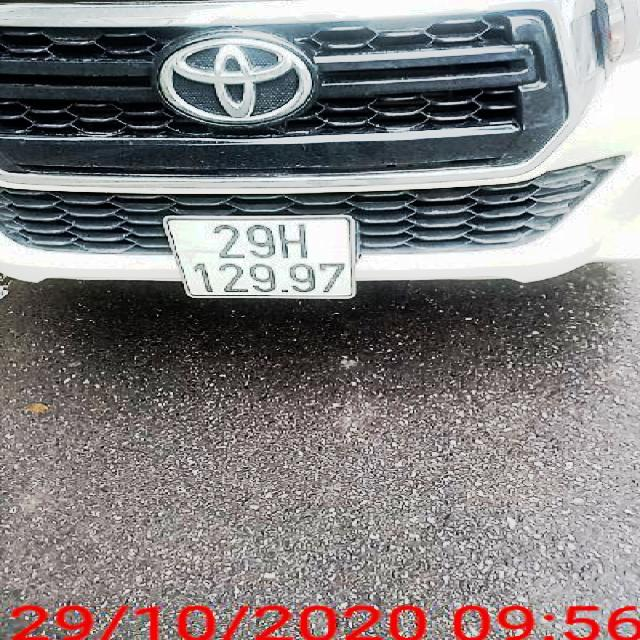license_plate: (168, 218, 355, 299)
